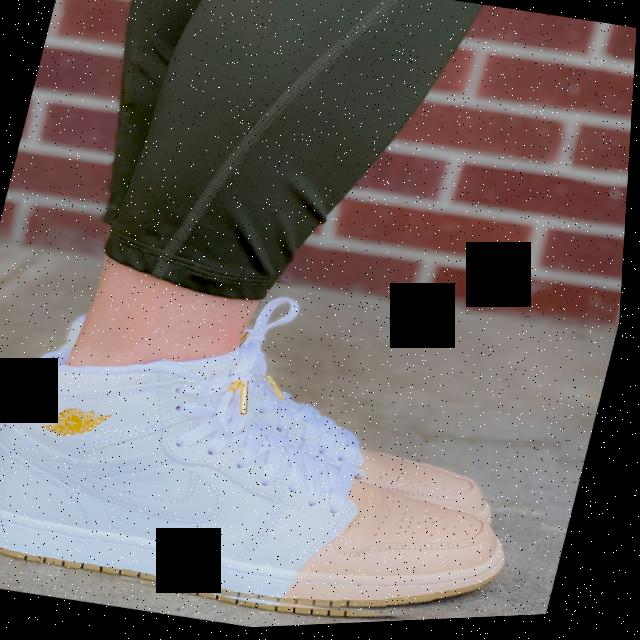shoe: (0, 310, 579, 640)
